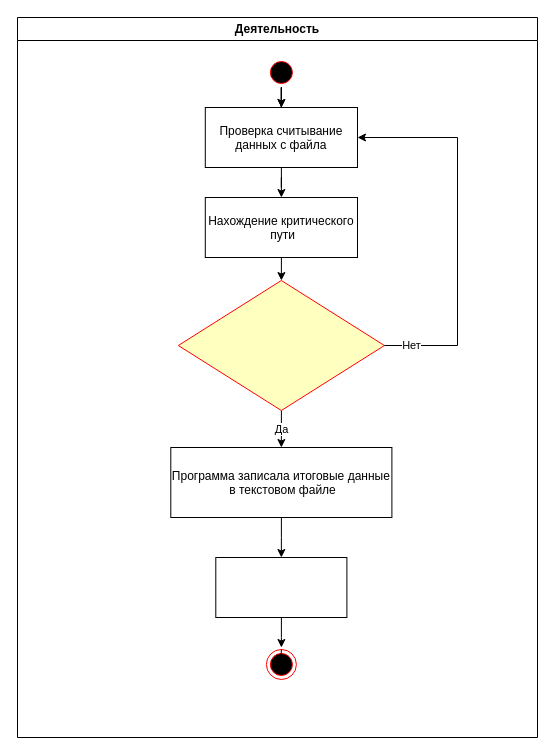
Image size: 555x755. Some labels were removed from this diagram. The shapes that lost their labels are listed below. From the top down, each one's centre as x and y in pixels, then its label:
point 280,345: Программа верно нашла путь?
point 281,587: Просмотр результатов
